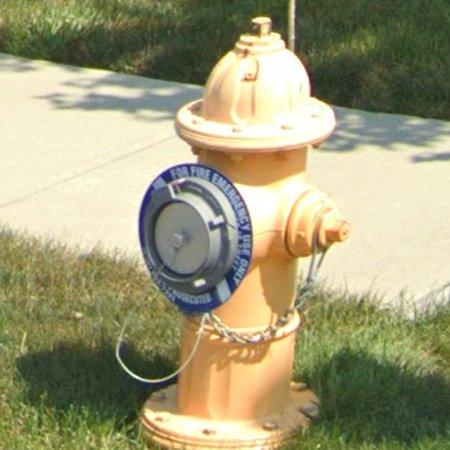a fire hydrant: (139, 17, 351, 450)
